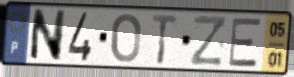4: (67, 12, 94, 63)
E: (227, 17, 263, 69)
N: (28, 8, 68, 63)
O: (110, 12, 143, 64)
T: (150, 13, 179, 66)
Z: (189, 14, 228, 68)
